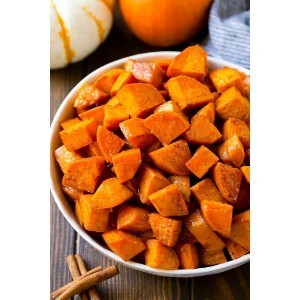sweet potato_brain food: (70, 53, 243, 259)
